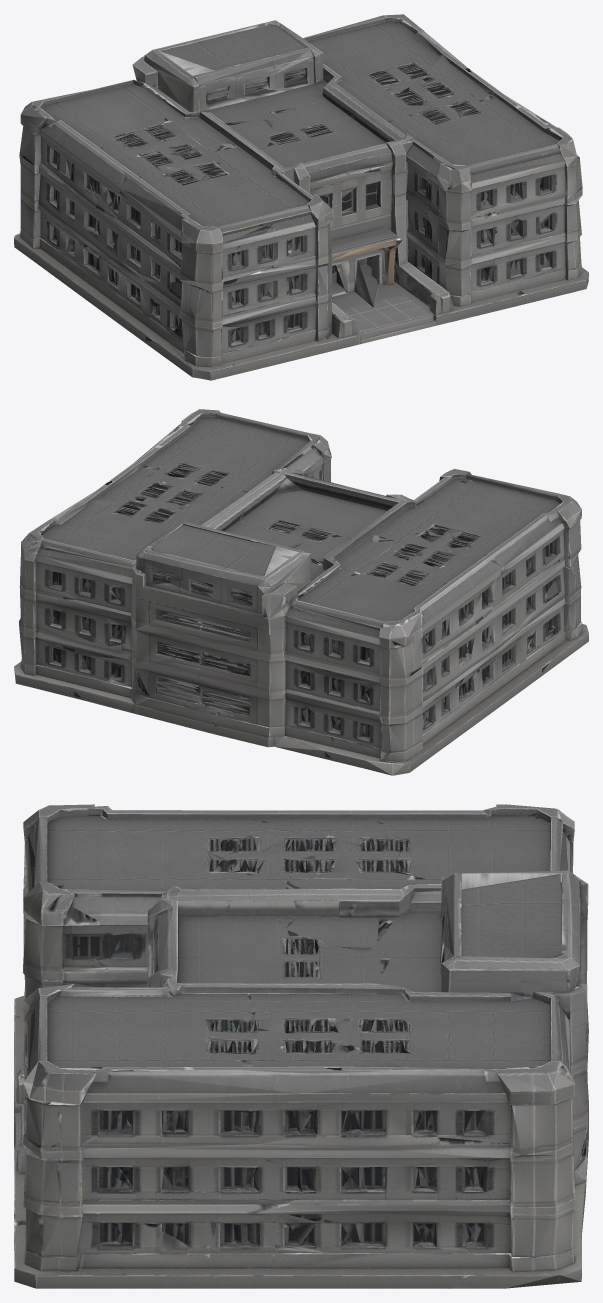
File: imperial_barracks_lod1.glb
3 views of the same model, one above another, from view 1: azimuth 30°, elevation 25°; view 2: azimuth 150°, elevation 25°; view 3: azimuth 270°, elevation 25° (orthographic). The views are drawn at different scales.
Visible parts, largest first — view 1: mesh_node; view 2: mesh_node; view 3: mesh_node.
Boxes of the visible parts, box(x1,y1,x2,y2) form: mesh_node: box(14, 14, 588, 380); mesh_node: box(14, 409, 588, 775); mesh_node: box(14, 804, 588, 1288).
Bounding box in the file's own units: 28.77 × 11.18 × 24.63.
1 material, 1 textured.
